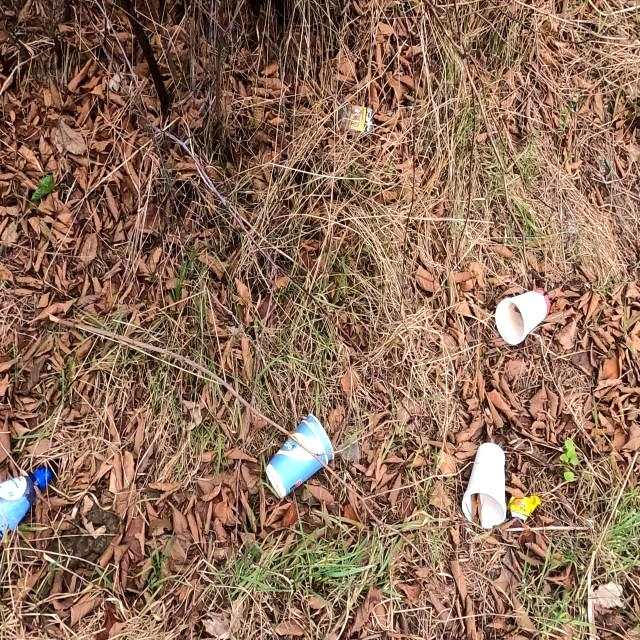Coffee Cup: (264, 411, 336, 499), (459, 441, 507, 531), (494, 287, 552, 345)
Paper: (338, 101, 374, 133)
Plastic: (506, 492, 542, 524)
